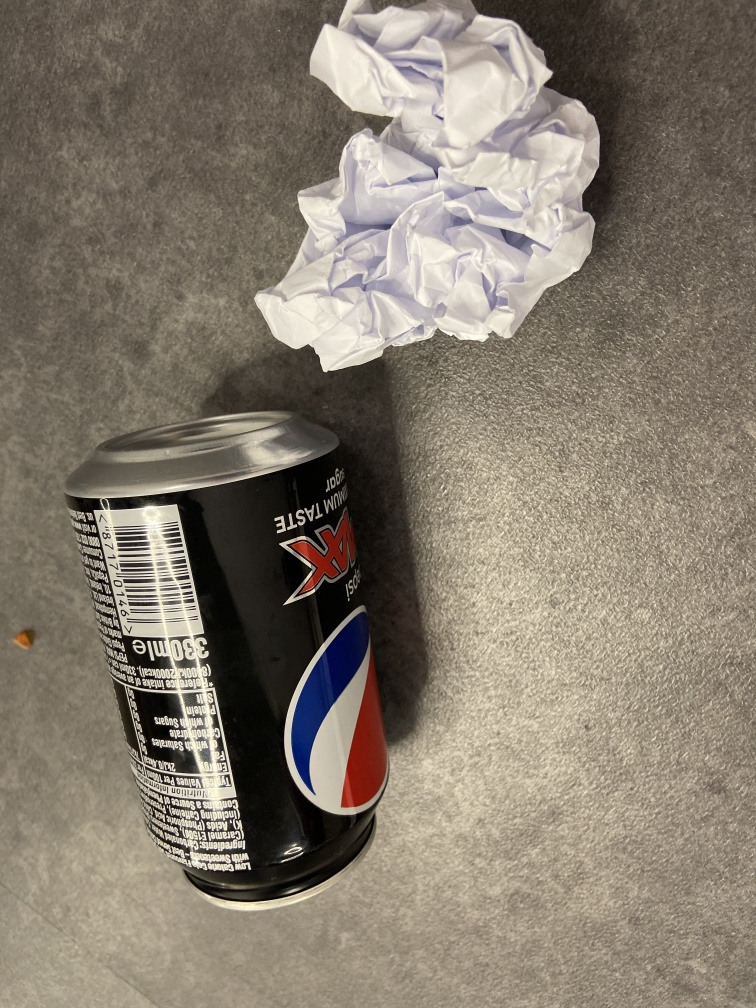can_black: (62, 400, 400, 915)
paper_white: (250, 1, 615, 376)
